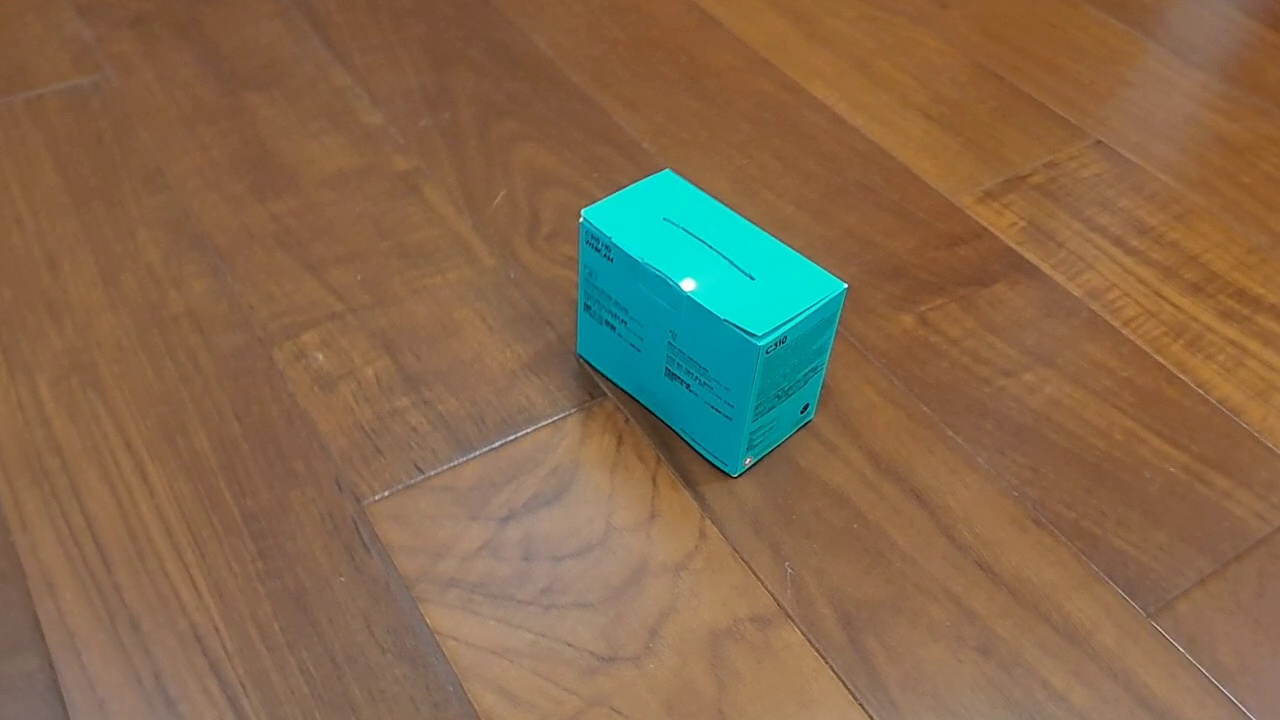webcam: (574, 166, 850, 480)
